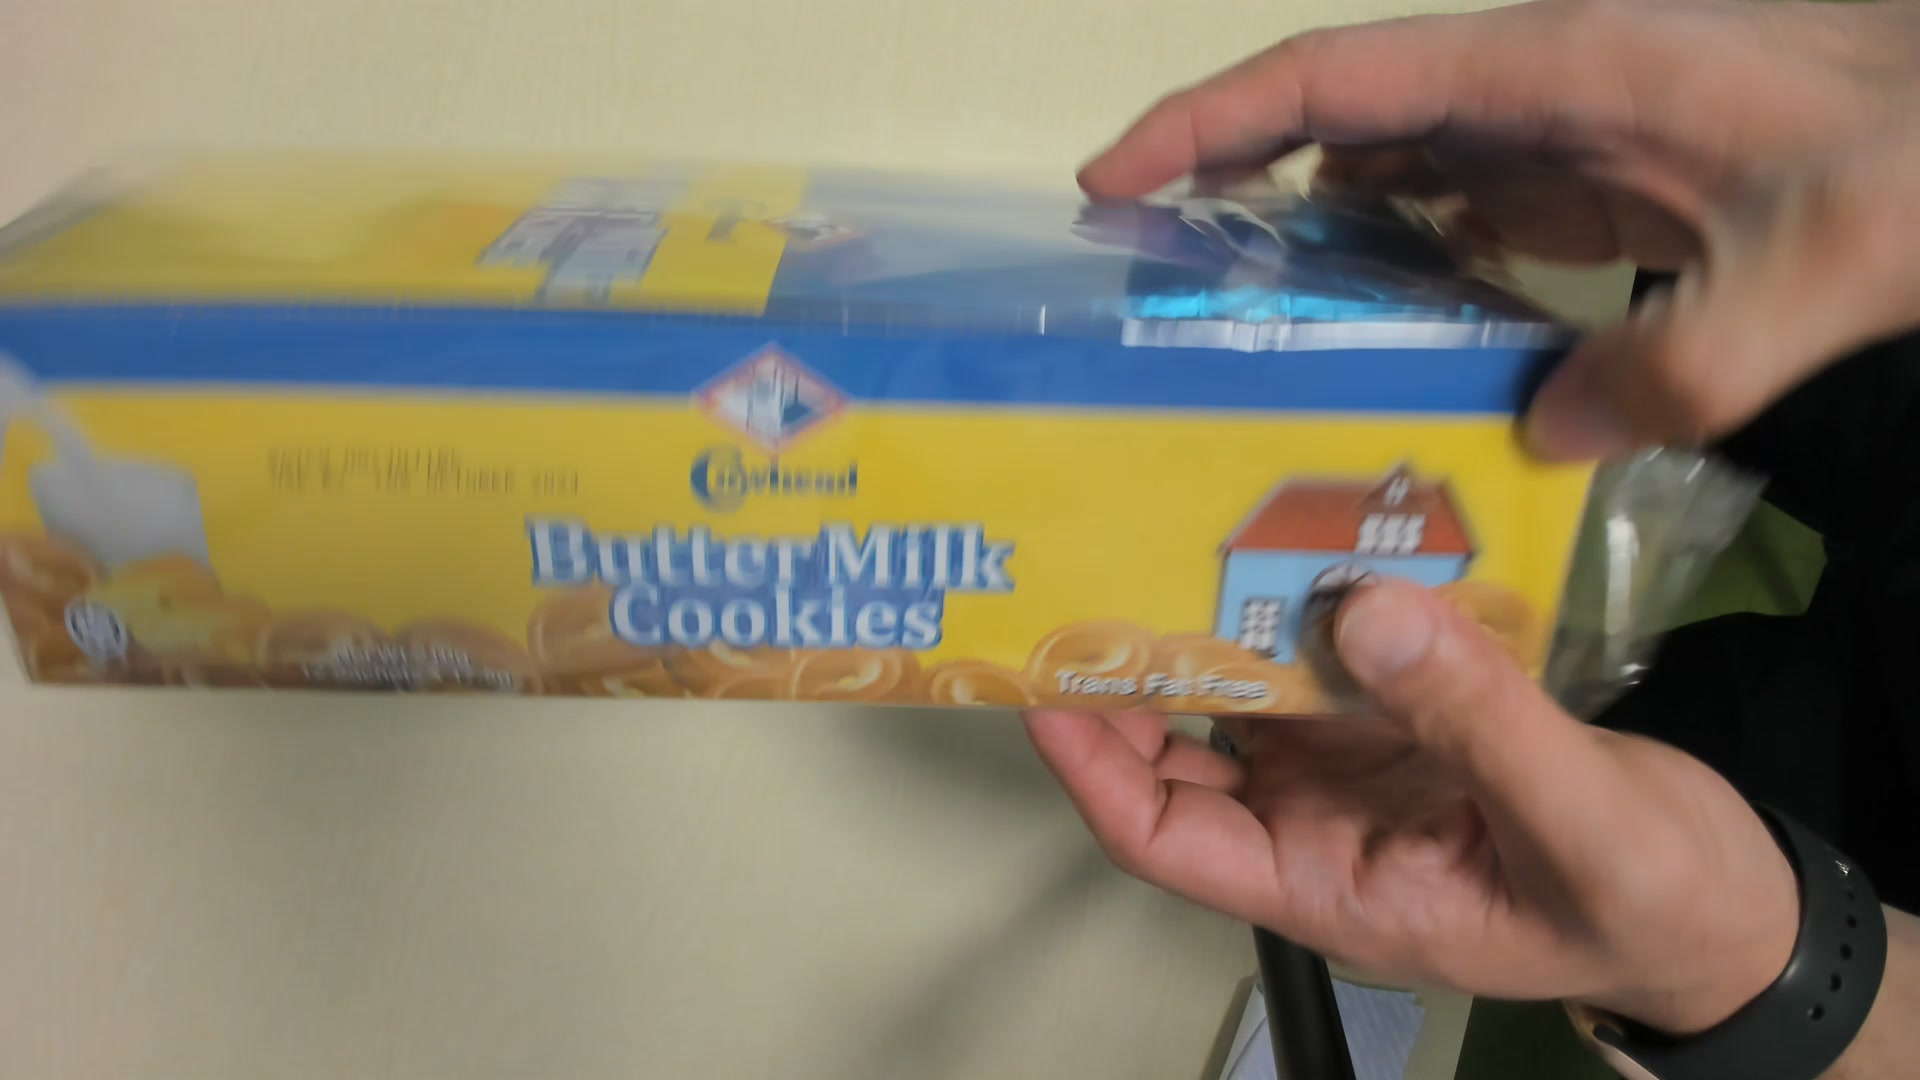SweetsChocolatesOthers_200-299g_Halal_Nonhealthy: (7, 150, 1577, 741)
